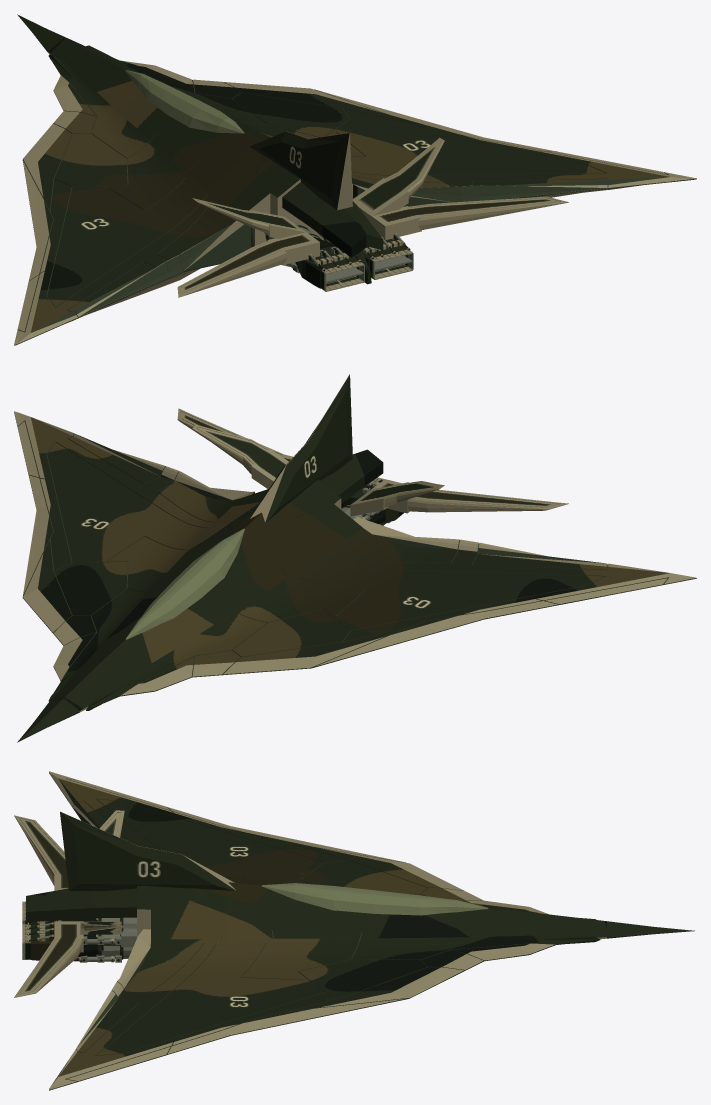
Rendered from B_military.glb.
The picture shows the model from 3 angles, top to bottom: view 1: azimuth 30°, elevation 25°; view 2: azimuth 150°, elevation 25°; view 3: azimuth 270°, elevation 25°; orthographic projection. The views are drawn at different scales.
Parts seen in each view (by area): view 1: AF_MAIN_WING_L_01, AF_MAIN_WING_R_01, AF_BODY_01, AF_MATCH_TAIL_CENTER, AF_REAR_WING_R3_R_tail_end_horizontal_blade, AF_MATCH_AFT_SADDLE, AF_REAR_WING_R3_R_tail_end_horizontal_blade_L, AF_DOME_CENTER_01, AF_REAR_WING_R3_R_small_upper_canted_blade, AF_REAR_WING_R3_R_small_upper_canted_blade_L, AF_ENGINE_E2_R_low_wide_cowl_L; view 2: AF_MAIN_WING_L_01, AF_MAIN_WING_R_01, AF_BODY_01, AF_MATCH_TAIL_CENTER, AF_DOME_CENTER_01, AF_REAR_WING_R3_R_tail_end_horizontal_blade_L, AF_REAR_WING_R3_R_small_upper_canted_blade, AF_MATCH_AFT_SADDLE, AF_REAR_WING_R3_R_small_upper_canted_blade_L, AF_REAR_WING_R3_R_tail_end_horizontal_blade; view 3: AF_MAIN_WING_R_01, AF_MAIN_WING_L_01, AF_BODY_01, AF_MATCH_TAIL_CENTER, AF_DOME_CENTER_01, AF_MATCH_AFT_SADDLE, AF_REAR_WING_R3_R_tail_end_horizontal_blade, AF_REAR_WING_R3_R_tail_end_horizontal_blade_L, AF_REAR_WING_R3_R_small_upper_canted_blade, AF_ENGINE_E2_R_low_wide_cowl.
Boxes of the visible parts, x1,y1,x2,y2 form: AF_MAIN_WING_L_01: (14,54,254,345); AF_MAIN_WING_R_01: (86,45,696,206); AF_BODY_01: (17,14,362,266); AF_MATCH_TAIL_CENTER: (250,131,352,210); AF_REAR_WING_R3_R_tail_end_horizontal_blade: (370,196,568,240); AF_MATCH_AFT_SADDLE: (253,156,383,257); AF_REAR_WING_R3_R_tail_end_horizontal_blade_L: (177,231,319,297); AF_DOME_CENTER_01: (125,70,244,133); AF_REAR_WING_R3_R_small_upper_canted_blade: (352,137,444,221); AF_REAR_WING_R3_R_small_upper_canted_blade_L: (192,198,305,238); AF_ENGINE_E2_R_low_wide_cowl_L: (297,245,359,288); AF_MAIN_WING_L_01: (86,517,696,710); AF_MAIN_WING_R_01: (14,411,254,701); AF_BODY_01: (17,479,362,742); AF_MATCH_TAIL_CENTER: (250,374,352,522); AF_DOME_CENTER_01: (125,528,244,639); AF_REAR_WING_R3_R_tail_end_horizontal_blade_L: (370,479,568,513); AF_REAR_WING_R3_R_small_upper_canted_blade: (192,424,288,488); AF_MATCH_AFT_SADDLE: (253,449,383,518); AF_REAR_WING_R3_R_small_upper_canted_blade_L: (350,481,444,516); AF_REAR_WING_R3_R_tail_end_horizontal_blade: (177,408,293,461); AF_MAIN_WING_R_01: (49,929,600,1090); AF_MAIN_WING_L_01: (49,771,596,919); AF_BODY_01: (137,882,694,943); AF_MATCH_TAIL_CENTER: (60,811,236,890); AF_DOME_CENTER_01: (261,883,488,915); AF_MATCH_AFT_SADDLE: (26,888,206,922); AF_REAR_WING_R3_R_tail_end_horizontal_blade: (14,921,83,997); AF_REAR_WING_R3_R_tail_end_horizontal_blade_L: (14,815,68,890); AF_REAR_WING_R3_R_small_upper_canted_blade: (80,921,124,934); AF_ENGINE_E2_R_low_wide_cowl: (30,923,80,960).
Size of the model in its own units: 14.65 by 3.44 by 13.26.
20 materials, 8 textured.
